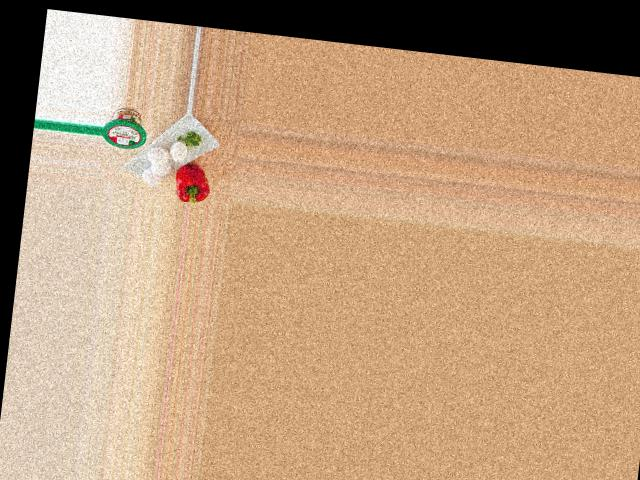bell_pepper: (167, 162, 215, 204)
